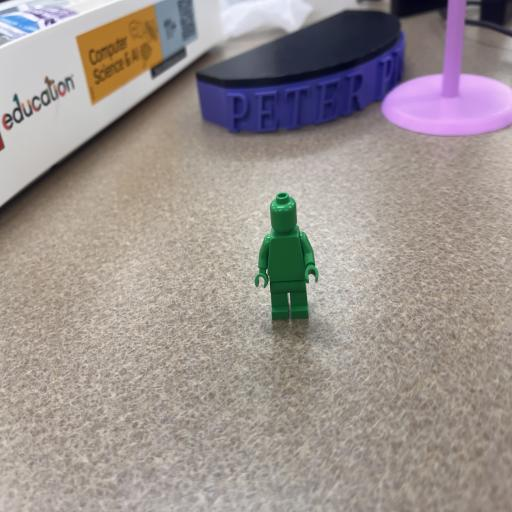Lego-Minifig: (270, 192, 297, 234)
